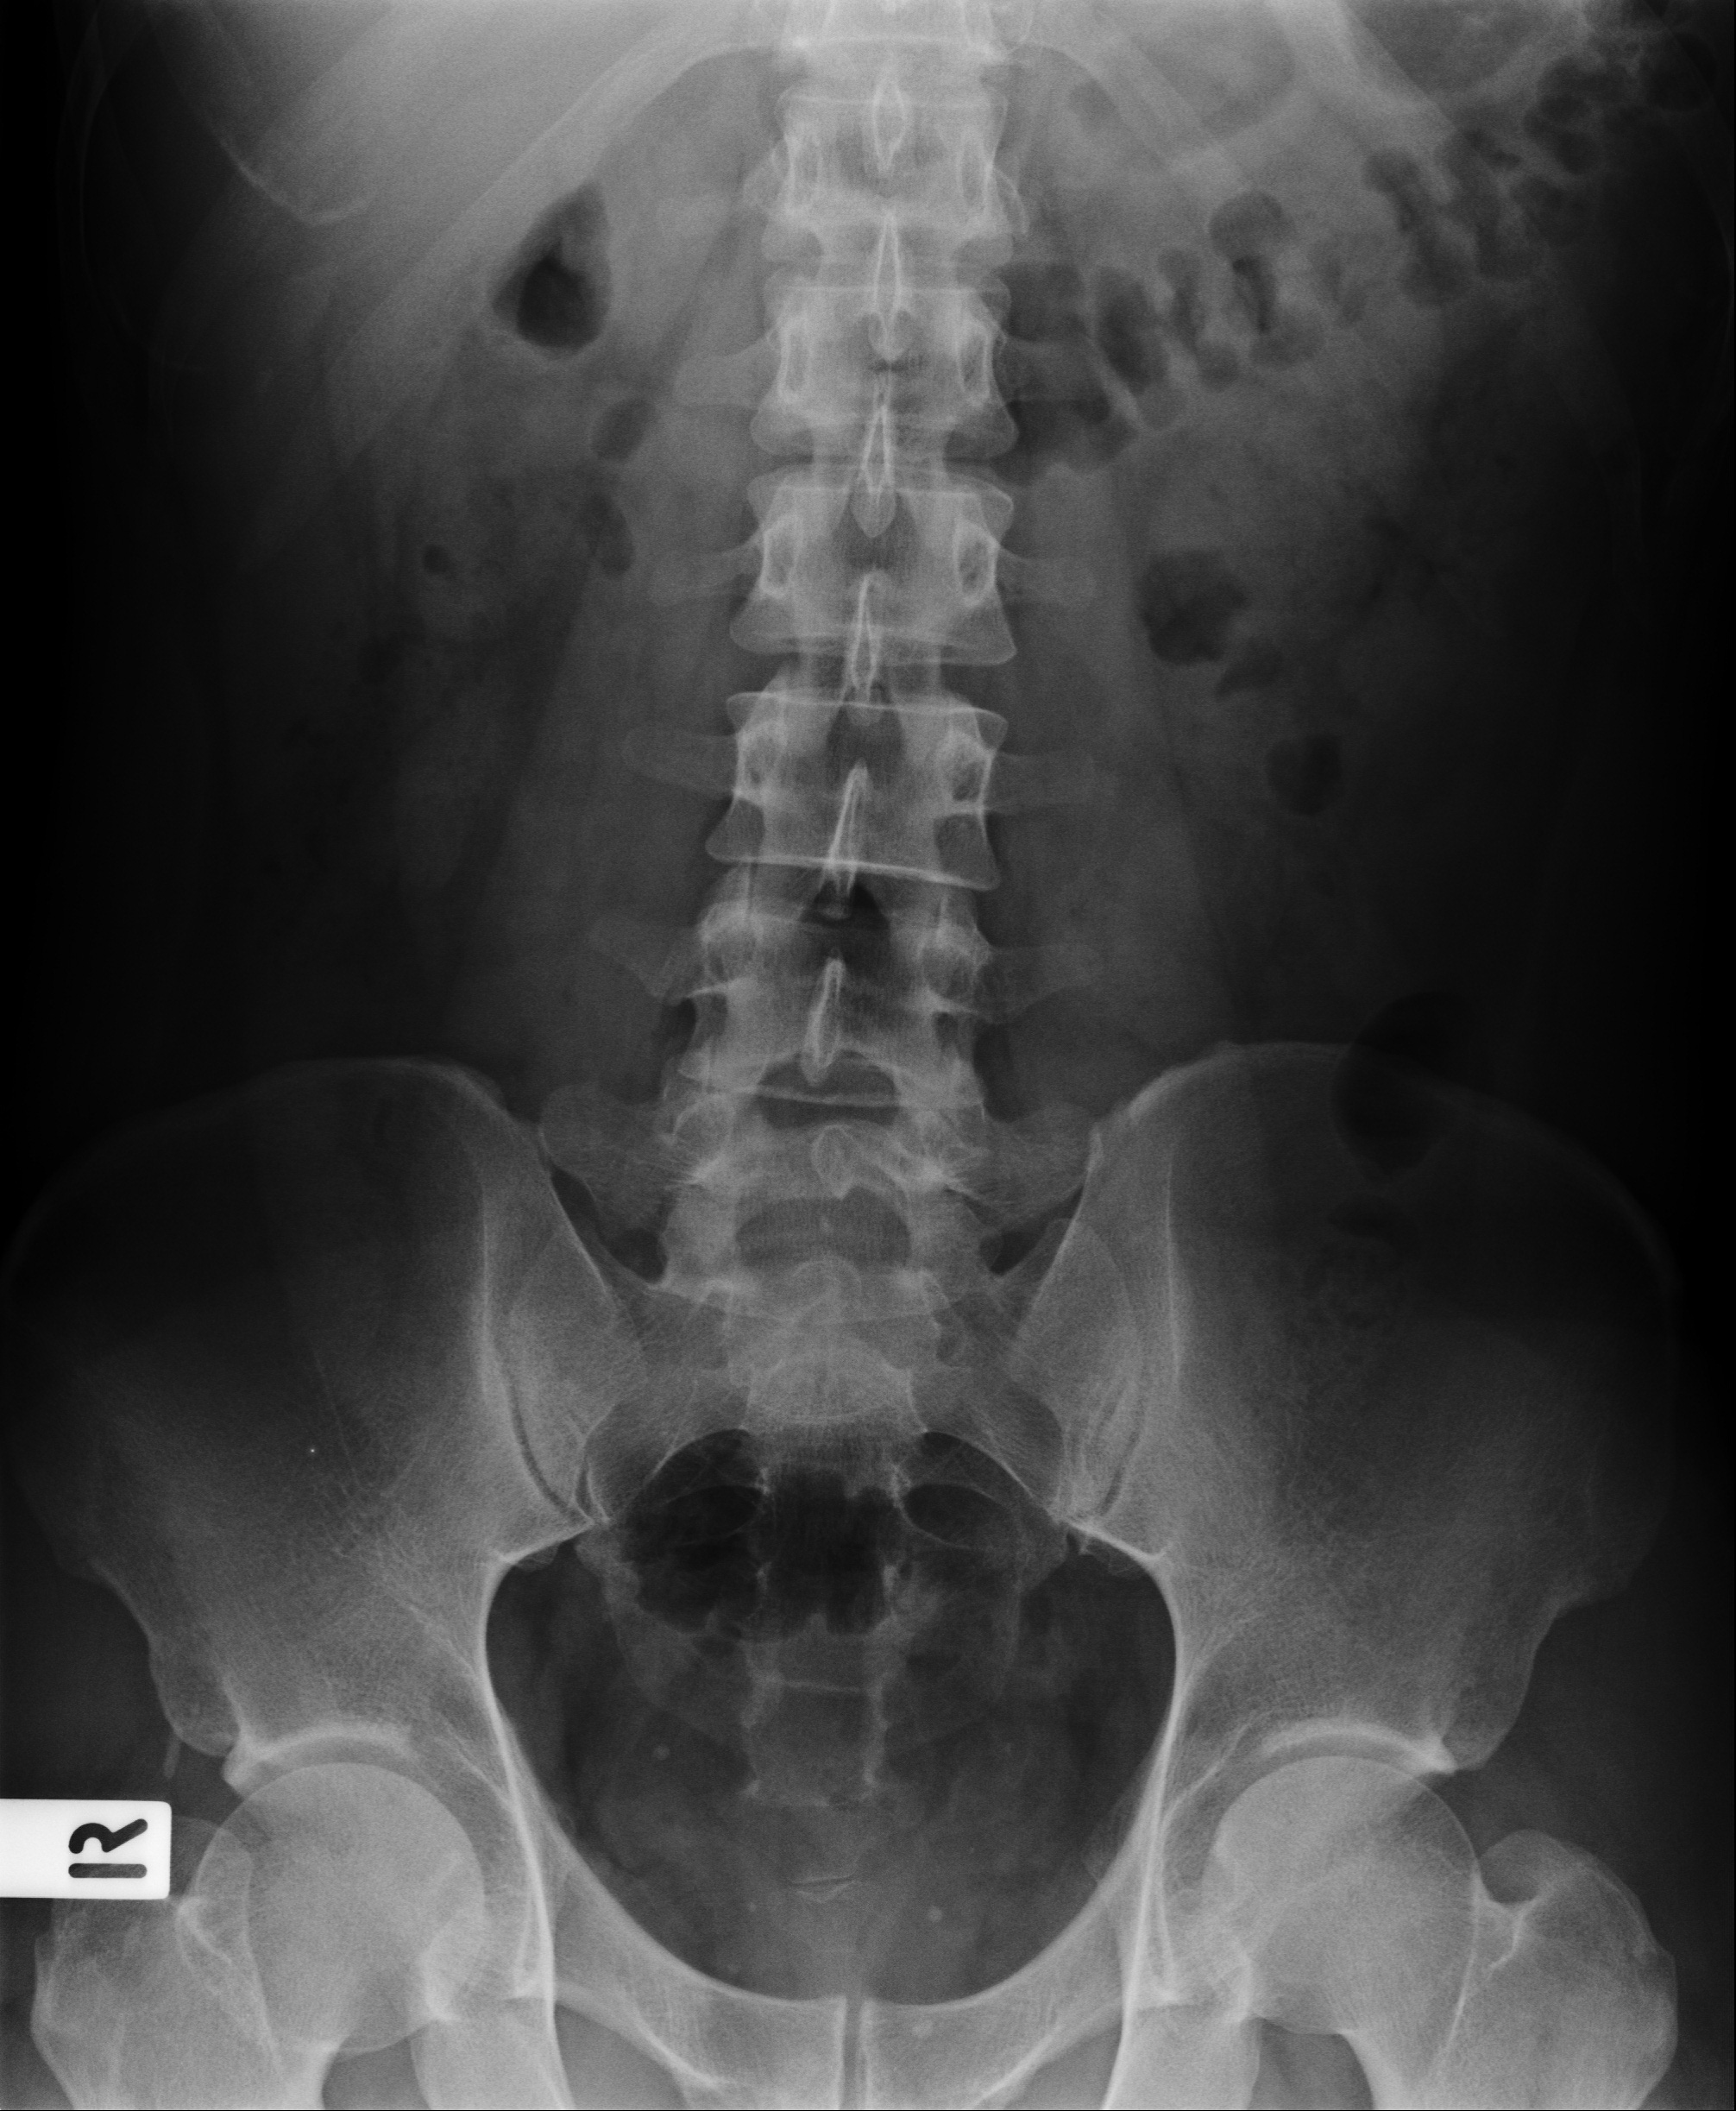lumbar scoliosis: (668, 14, 1024, 1355)
